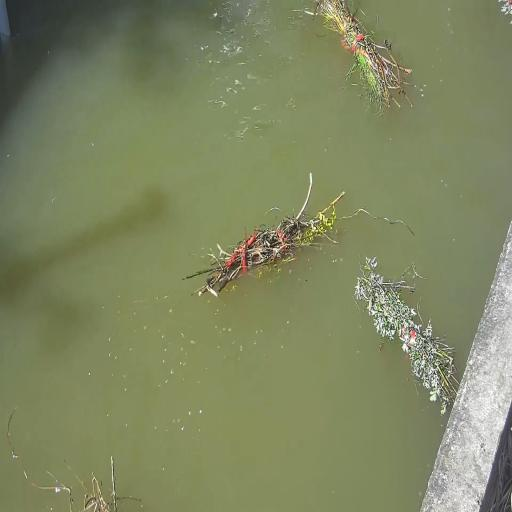twig: (183, 173, 344, 296), (355, 257, 458, 414), (309, 0, 413, 110), (75, 456, 137, 512), (29, 472, 75, 512), (7, 409, 27, 478)
